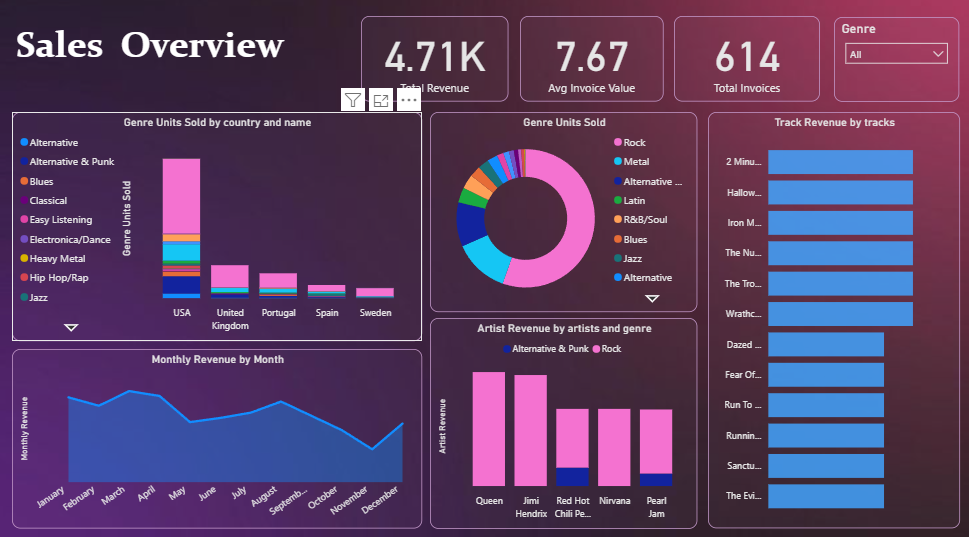

The dashboard page shown, as its layout file describes it:
{"tool":"powerbi","page":{"name":"SALES OVERVIEW","canvas":[1280,720],"ordinal":1},"visuals":[{"type":"card","fields":{"Values":["invoice.Total Revenue"]},"box":[479,30.4,193,111.7],"z":0},{"type":"card","fields":{"Values":["invoice.Avg Invoice Value"]},"box":[687.2,30.4,187.9,111.7],"z":1000},{"type":"card","fields":{"Values":["invoice.Total Invoices"]},"box":[888.7,30.4,191.3,111.7],"z":2000},{"type":"areaChart","fields":{"Category":["Date.Date.Variation.Date Hierarchy.Month"],"Y":["invoice.Monthly Revenue"]},"box":[22.7,466.3,537.2,235.3],"z":3000},{"type":"columnChart","title":"Artist Revenue by artists and genre","fields":{"Category":["artist.name"],"Y":["artist.Artist Revenue"],"Series":["genre.name"]},"box":[568.9,425,350.5,276],"z":4000},{"type":"donutChart","title":"Genre Units Sold","fields":{"Category":["genre.name"],"Y":["genre.Genre Units Sold"]},"box":[568.9,155.8,350.5,262.4],"z":5000},{"type":"columnChart","fields":{"Category":["customer.country"],"Y":["genre.Genre Units Sold"],"Series":["genre.name"]},"box":[22,155.8,536.7,299.7],"z":7000},{"type":"barChart","title":"Track Revenue by tracks","fields":{"Category":["track.name"],"Y":["Sum(track.Track Revenue)"]},"box":[932.9,155.8,330.2,545.2],"z":8000},{"type":"textbox","box":[22,30.5,403,94.8],"z":8001},{"type":"slicer","title":"Genre","fields":{"Values":["genre.name"]},"box":[1098.4,31.2,164.4,110.6],"z":8002}]}

Visuals, with their boxes in screenshot pixels (x1, y1, x2, y2), scaled from the page's 1280x720 canvas onto the 969x537 screenshot:
card - invoice.Total Revenue: box(363, 23, 509, 106)
card - invoice.Avg Invoice Value: box(520, 23, 662, 106)
card - invoice.Total Invoices: box(673, 23, 818, 106)
areaChart - Date.Date.Variation.Date Hierarchy.Month x invoice.Monthly Revenue: box(17, 348, 424, 523)
"Artist Revenue by artists and genre" columnChart: box(431, 317, 696, 523)
"Genre Units Sold" donutChart: box(431, 116, 696, 312)
columnChart - customer.country x genre.Genre Units Sold: box(17, 116, 423, 340)
"Track Revenue by tracks" barChart: box(706, 116, 956, 523)
textbox: box(17, 23, 322, 93)
"Genre" slicer: box(832, 23, 956, 106)
